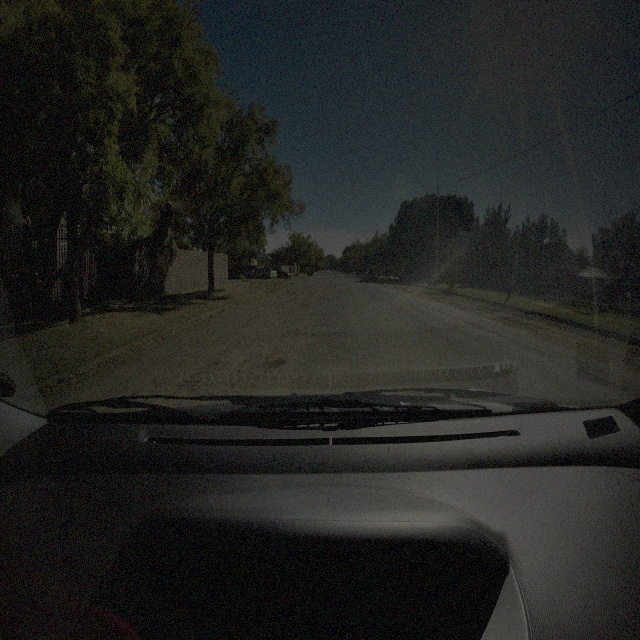pothole: (262, 357, 287, 373)
